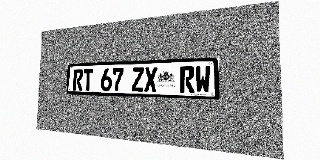6: (101, 68, 112, 91)
7: (112, 68, 124, 91)
R: (180, 66, 194, 93), (73, 69, 83, 90)
T: (83, 69, 93, 91)
W: (195, 65, 211, 93)
X: (144, 67, 157, 92)
Z: (131, 67, 144, 92)
